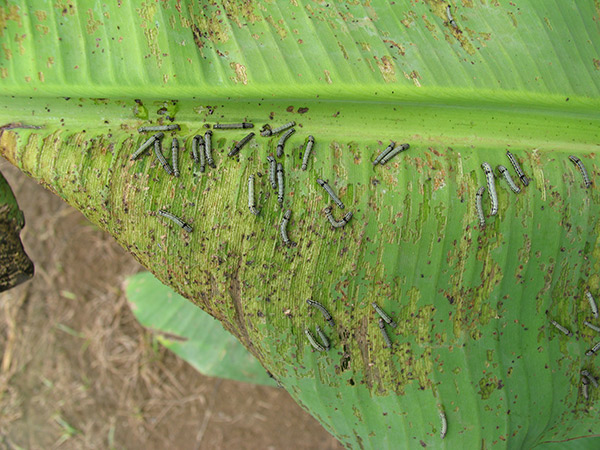Armyworm: (368, 299, 418, 356), (368, 119, 412, 179), (565, 141, 599, 202), (298, 318, 341, 362), (543, 304, 578, 356), (464, 176, 494, 233), (312, 175, 349, 214), (153, 204, 198, 236), (129, 131, 165, 168), (434, 394, 457, 442), (244, 166, 265, 218), (440, 8, 473, 39), (280, 208, 298, 247)
